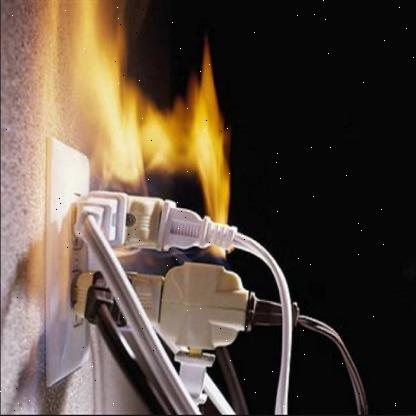fire: (36, 0, 232, 263)
